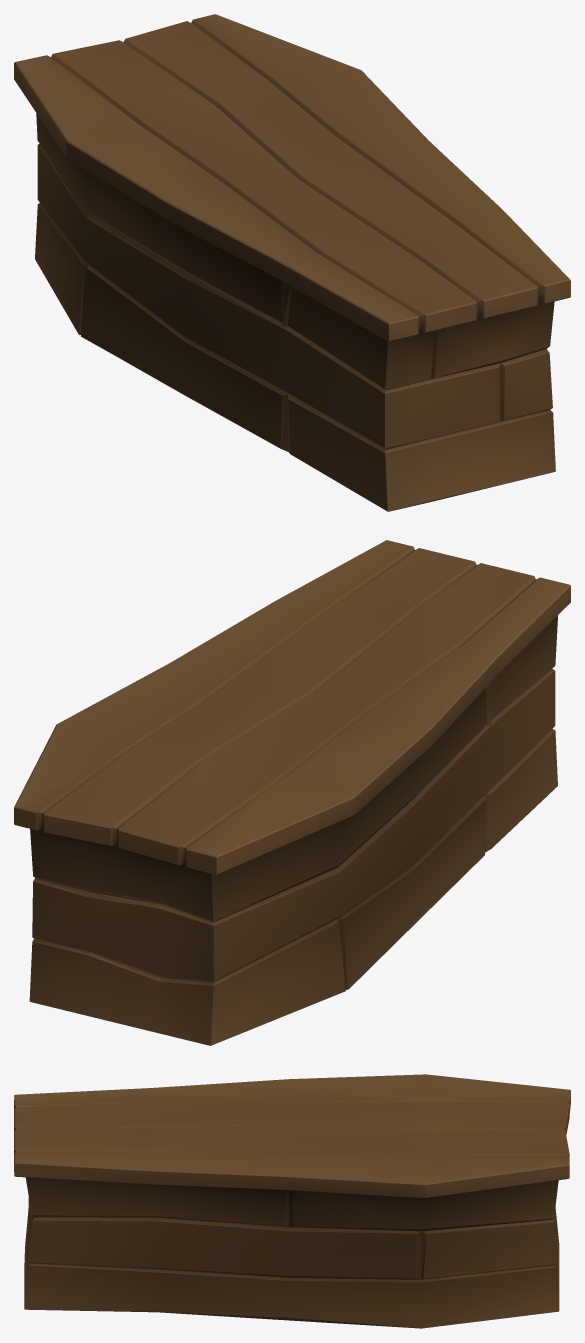
The model's file is obj_coffin_B.FBX.
3 renders of one model, top to bottom at view 1: azimuth 30°, elevation 25°; view 2: azimuth 150°, elevation 25°; view 3: azimuth 270°, elevation 25°, orthographic. The views are drawn at different scales.
Parts seen in each view (by area): view 1: obj_coffin_B; view 2: obj_coffin_B; view 3: obj_coffin_B.
Boxes of the visible parts, bbox=[...] form: obj_coffin_B: bbox=[14, 14, 570, 511]; obj_coffin_B: bbox=[14, 540, 570, 1045]; obj_coffin_B: bbox=[14, 1074, 570, 1328].
Bounding box in the file's own units: 1.55 × 0.9891 × 3.31.
